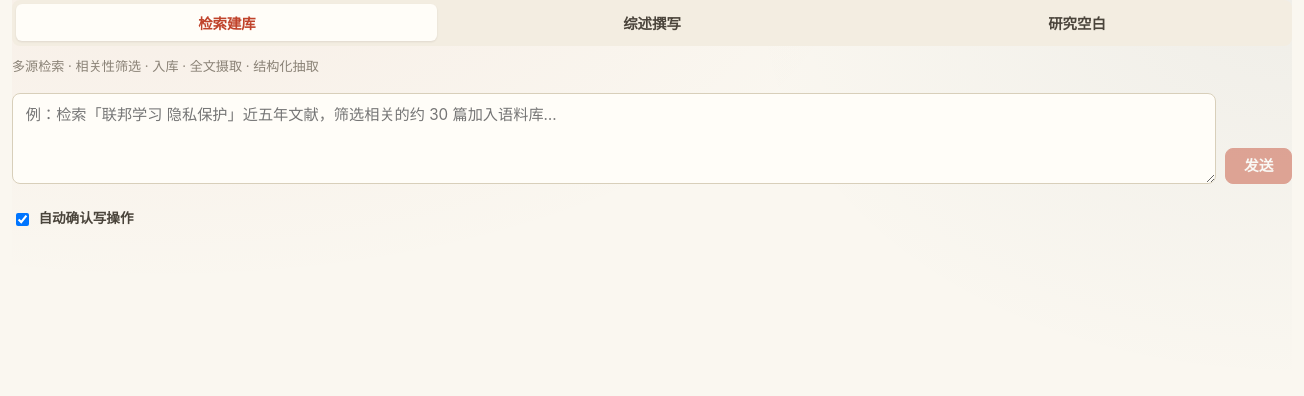
Test: AgentChat + RunTimeline › 流断开无终态事件时显示错误提示
Type "分析文献" into the text box named "Agent 指令输入" at coordinates (614, 138), box [12,92,1216,184]
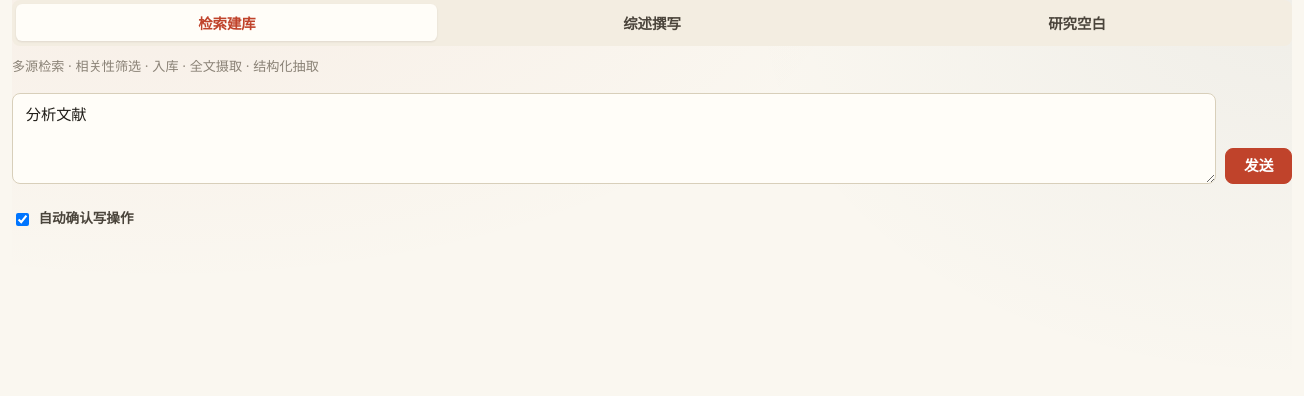
Click the button "发送" at coordinates (1259, 166), box [1225,148,1292,184]
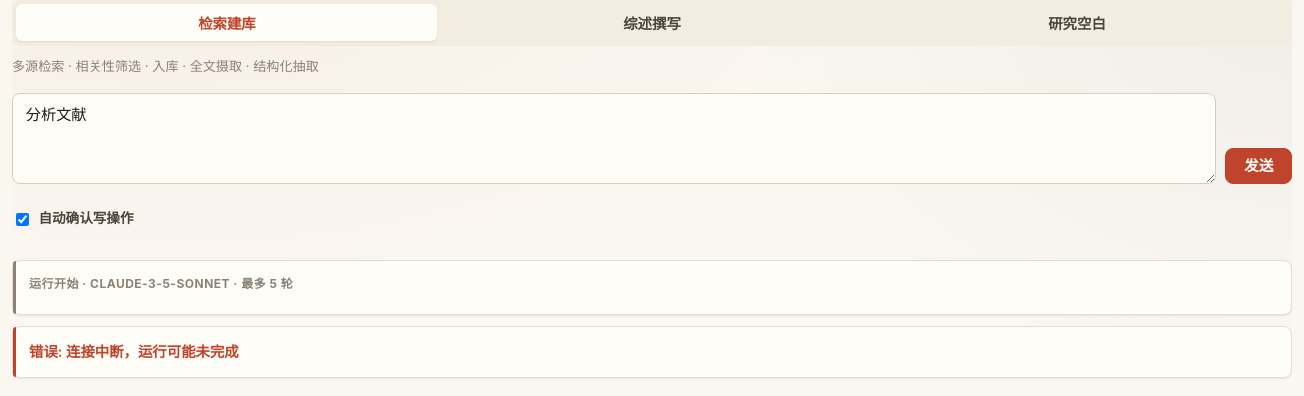
expect the text "错误: 连接中断，运行可能未完成" is shown: met, box [29,343,239,360]
